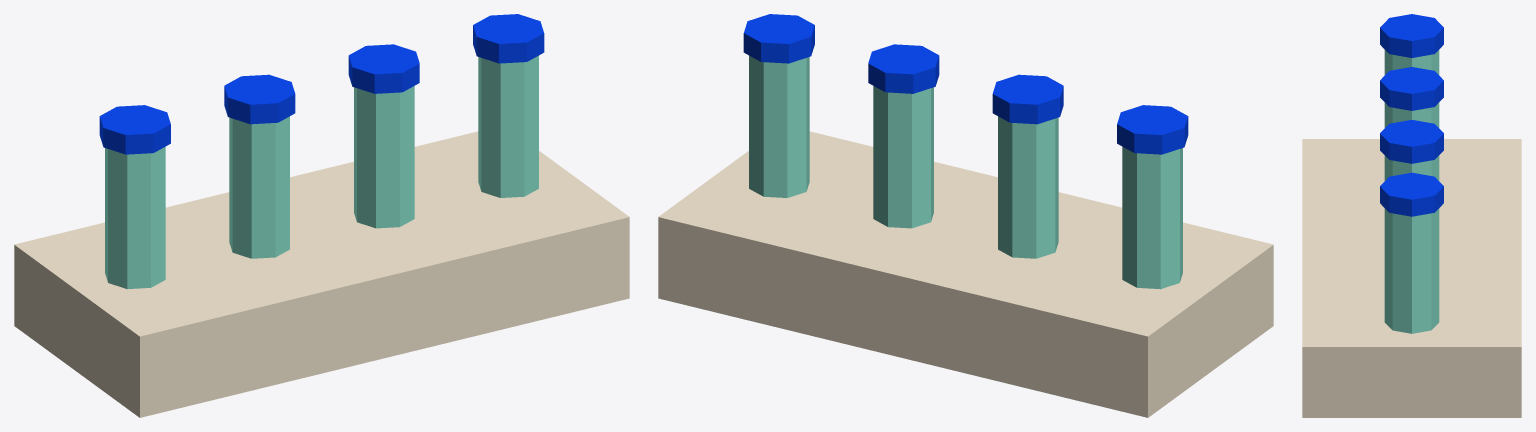
3 views of the same model, side by side, from view 1: azimuth 30°, elevation 25°; view 2: azimuth 150°, elevation 25°; view 3: azimuth 270°, elevation 25° (orthographic). The views are drawn at different scales.
Visible parts, largest first — view 1: Sample rack, Lab vial.002, Lab vial, Lab vial.003, Lab vial.001, Vial lid.002, Vial lid, Vial lid.003, Vial lid.001; view 2: Sample rack, Lab vial.002, Lab vial, Lab vial.003, Lab vial.001, Vial lid.002, Vial lid, Vial lid.003, Vial lid.001; view 3: Sample rack, Lab vial.003, Vial lid, Vial lid.001, Vial lid.003, Vial lid.002, Lab vial.001, Lab vial.002, Lab vial.
Boxes of the visible parts, x1,y1,x2,y2 form: Sample rack: (14,131,629,417); Lab vial.002: (354,86,414,228); Lab vial: (105,147,165,289); Lab vial.003: (478,55,538,197); Lab vial.001: (229,116,289,258); Vial lid.002: (348,44,419,93); Vial lid: (99,105,170,154); Vial lid.003: (473,14,544,63); Vial lid.001: (224,74,295,124); Sample rack: (658,131,1273,417); Lab vial.002: (873,86,933,228); Lab vial: (1122,147,1182,289); Lab vial.003: (749,55,809,197); Lab vial.001: (998,116,1058,258); Vial lid.002: (868,44,939,93); Vial lid: (1117,105,1188,154); Vial lid.003: (743,14,814,63); Vial lid.001: (992,74,1063,124); Sample rack: (1302,139,1521,417); Lab vial.003: (1384,208,1439,333); Vial lid: (1380,14,1443,57); Vial lid.001: (1380,67,1443,110); Vial lid.003: (1380,172,1443,216); Vial lid.002: (1380,120,1443,163); Lab vial.001: (1384,102,1439,127); Lab vial.002: (1384,155,1439,180); Lab vial: (1384,50,1439,74).
Size of the model in its own units: 0.63 by 0.292 by 0.28.
1 material, 1 textured.
